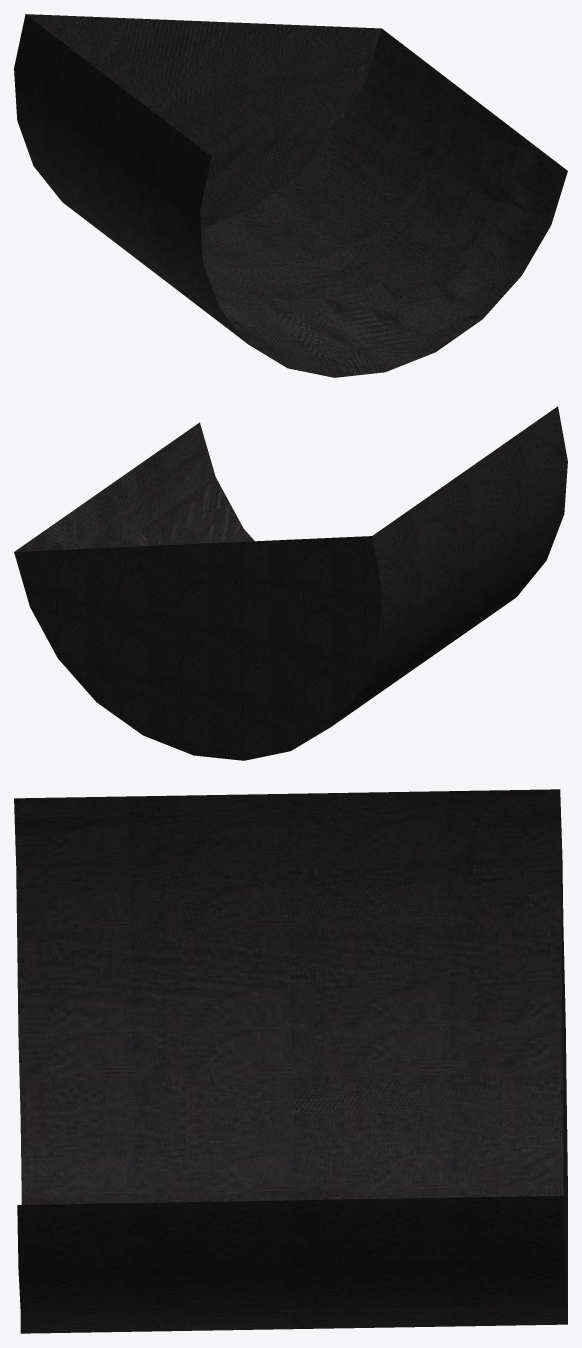
The model's file is original-195.obj.
3 views of the same model, one above another, from view 1: azimuth 30°, elevation 25°; view 2: azimuth 150°, elevation 25°; view 3: azimuth 270°, elevation 25° (orthographic). The views are drawn at different scales.
Visible parts, largest first — view 1: Group9/mesh100/mesh100-geometry/material_1/component_3#mesh100-g; view 2: Group9/mesh100/mesh100-geometry/material_1/component_3#mesh100-g; view 3: Group9/mesh100/mesh100-geometry/material_1/component_3#mesh100-g.
Boxes of the visible parts, box(x1,y1,x2,y2) form: Group9/mesh100/mesh100-geometry/material_1/component_3#mesh100-g: box(14, 14, 567, 377); Group9/mesh100/mesh100-geometry/material_1/component_3#mesh100-g: box(14, 406, 567, 760); Group9/mesh100/mesh100-geometry/material_1/component_3#mesh100-g: box(14, 789, 567, 1333).
Bounding box in the file's own units: 0.0373 × 0.0258 × 0.0331.
2 materials, 2 textured.
